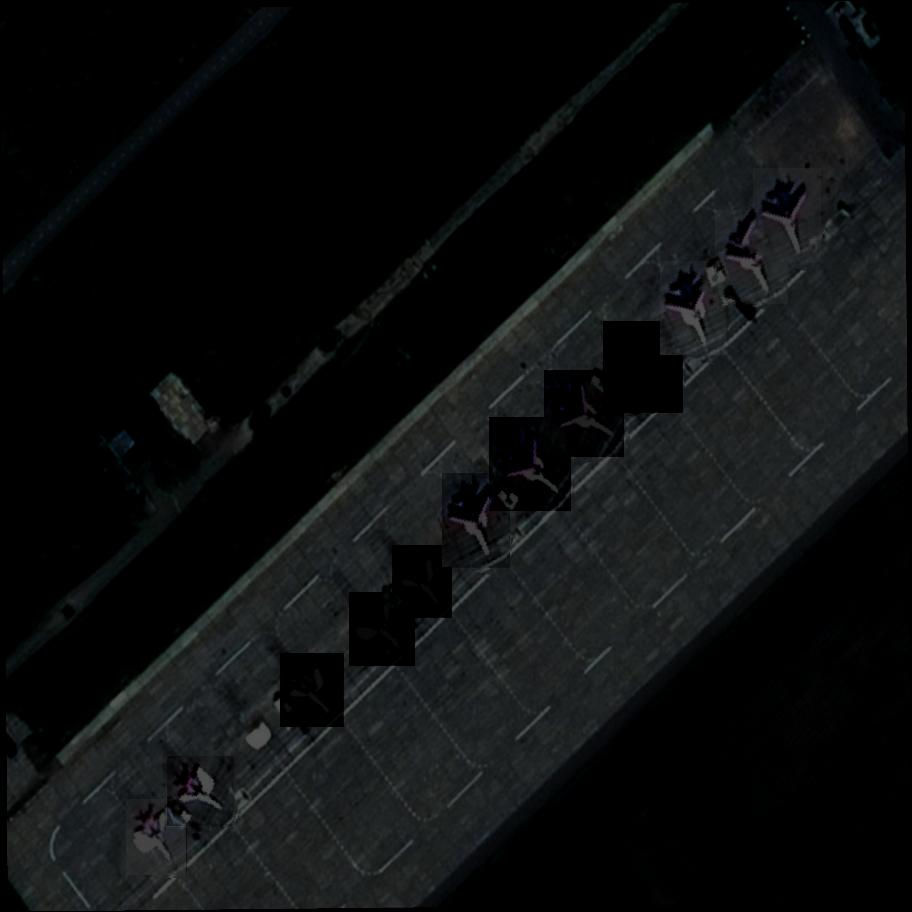plane: (485, 418, 578, 511), (601, 322, 692, 414), (540, 371, 632, 458), (713, 211, 792, 305), (441, 474, 516, 568), (751, 169, 826, 262), (659, 262, 729, 355), (346, 592, 420, 667), (163, 756, 239, 828), (124, 799, 192, 876), (278, 653, 348, 727), (391, 546, 458, 618)
